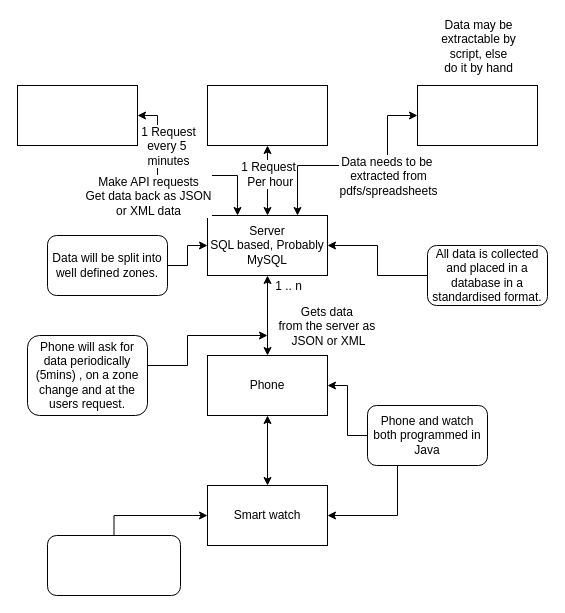
Some shapes in this 565 by 613 pixel diagram are drawn without their labels. Here are the shapes that lost their labels. From the top down, the centre of each, then its label:
At (77,115): "Smart Citizen Live Updates".
At (267,115): "London Air Hourly Updates".
At (477,115): "London Datasets Yearly Updates".
At (113,565): "Watch simply displays data, it does no calculation etc. That is the phones job.".
